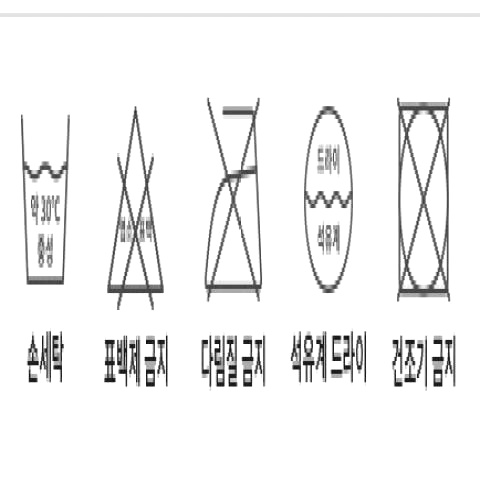30C: (15, 109, 81, 293)
DN_iron: (198, 93, 279, 310)
DN_tumble_dry: (386, 96, 458, 307)
dry_clean_petrol_only: (293, 108, 366, 297)
non_chlorine_bleach: (100, 104, 173, 313)
